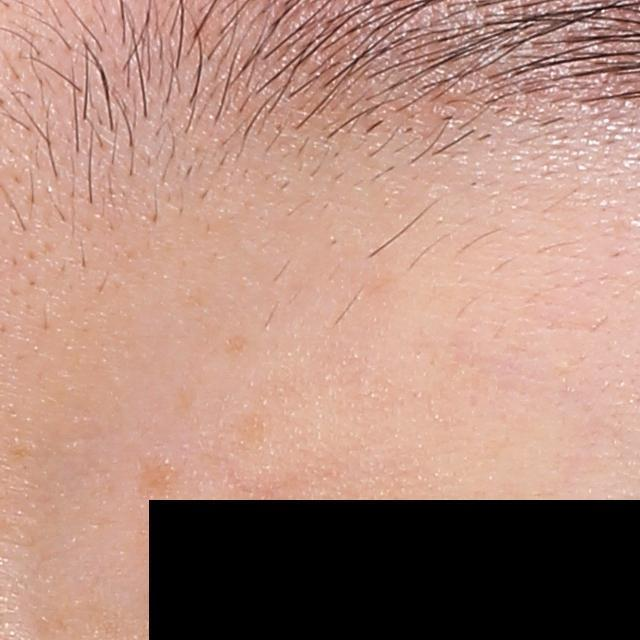melasma: (132, 452, 184, 504), (233, 409, 276, 452), (222, 334, 247, 355)
